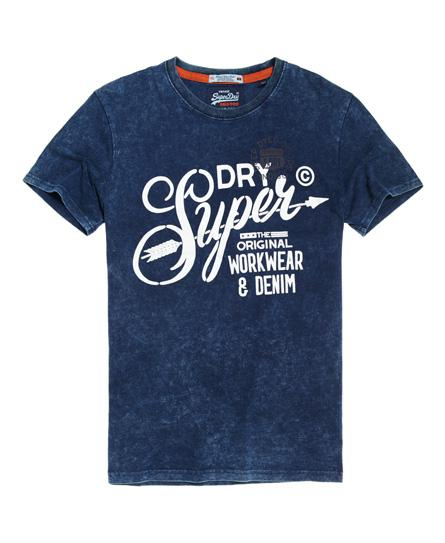teeshirt: (21, 47, 432, 523)
